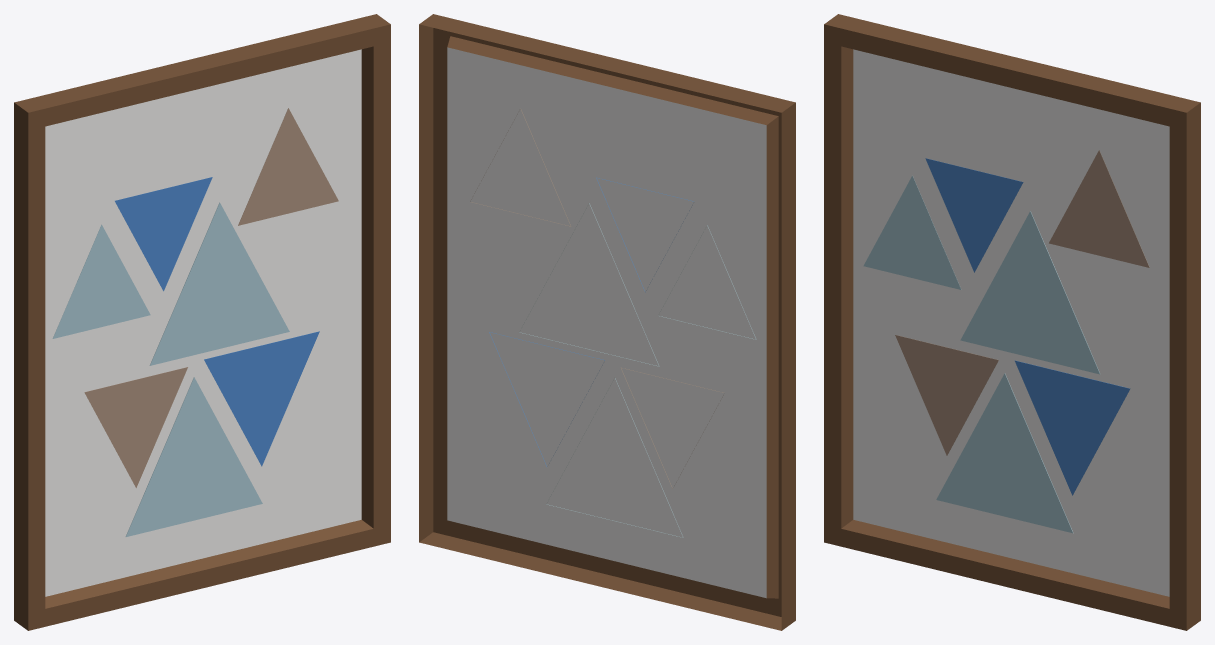
The model's file is Picture_23.fbx.
The picture shows the model from 3 angles, left to right: view 1: azimuth 30°, elevation 25°; view 2: azimuth 150°, elevation 25°; view 3: azimuth 330°, elevation 25°; orthographic projection.
Visible parts, largest first — view 1: Picture_23; view 2: Picture_23; view 3: Picture_23.
Boxes of the visible parts, bbox=[...] form: Picture_23: bbox=[14, 14, 390, 630]; Picture_23: bbox=[419, 14, 795, 630]; Picture_23: bbox=[824, 14, 1200, 630].
Bounding box in the file's own units: 84.86 × 5.72 × 116.
